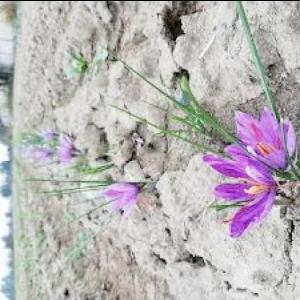Saffron: (204, 150, 270, 236), (227, 109, 291, 175), (100, 179, 142, 220), (57, 147, 72, 160)
